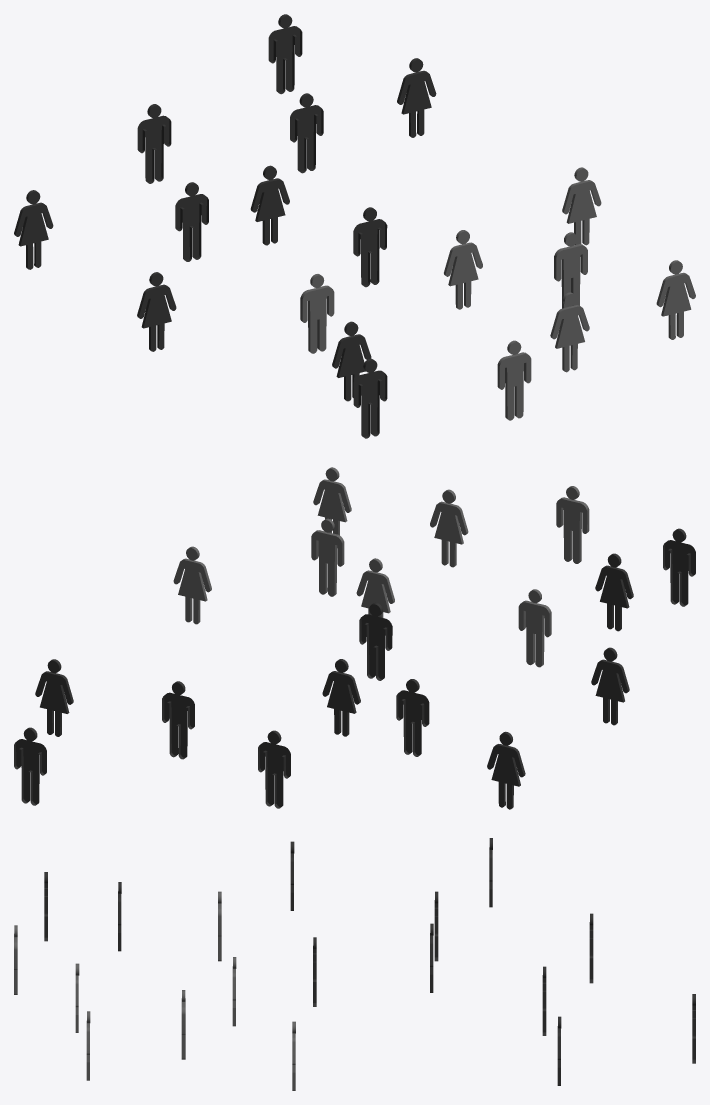
Rendered from ManWoman_Mesh.obj.
The picture shows the model from 3 angles, top to bottom: view 1: azimuth 30°, elevation 25°; view 2: azimuth 150°, elevation 25°; view 3: azimuth 270°, elevation 25°; orthographic projection. The views are drawn at different scales.
Parts seen in each view (by area): view 1: ManWoman_Mesh:polySurface21; view 2: ManWoman_Mesh:polySurface21; view 3: ManWoman_Mesh:polySurface21.
Part boxes in pixels (bbox=[...]): ManWoman_Mesh:polySurface21: bbox=[14, 14, 695, 438]; ManWoman_Mesh:polySurface21: bbox=[14, 467, 695, 809]; ManWoman_Mesh:polySurface21: bbox=[14, 838, 695, 1090].
Bounding box in the file's own units: 6.33 × 0.9893 × 9.15.
Materials: 1 (1 with a texture image).
